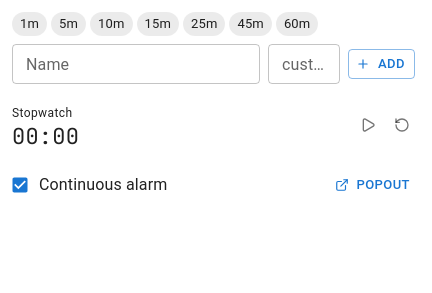
it: TimersPanel › adds a timer with a custom minutes value
Type "3" into the field labelled "custom minutes" at (304, 64), box [268, 44, 340, 84]
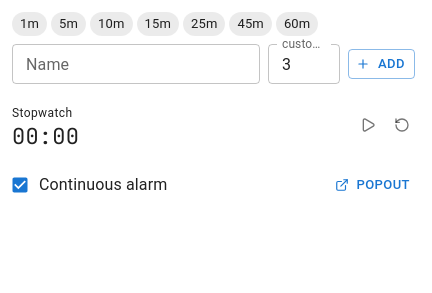
Click the button with aria-label "add timer" at (381, 64), box [348, 49, 415, 79]
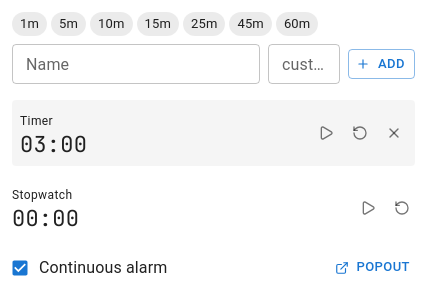
Result: the text "03:00" is shown at [20, 130, 87, 159]
